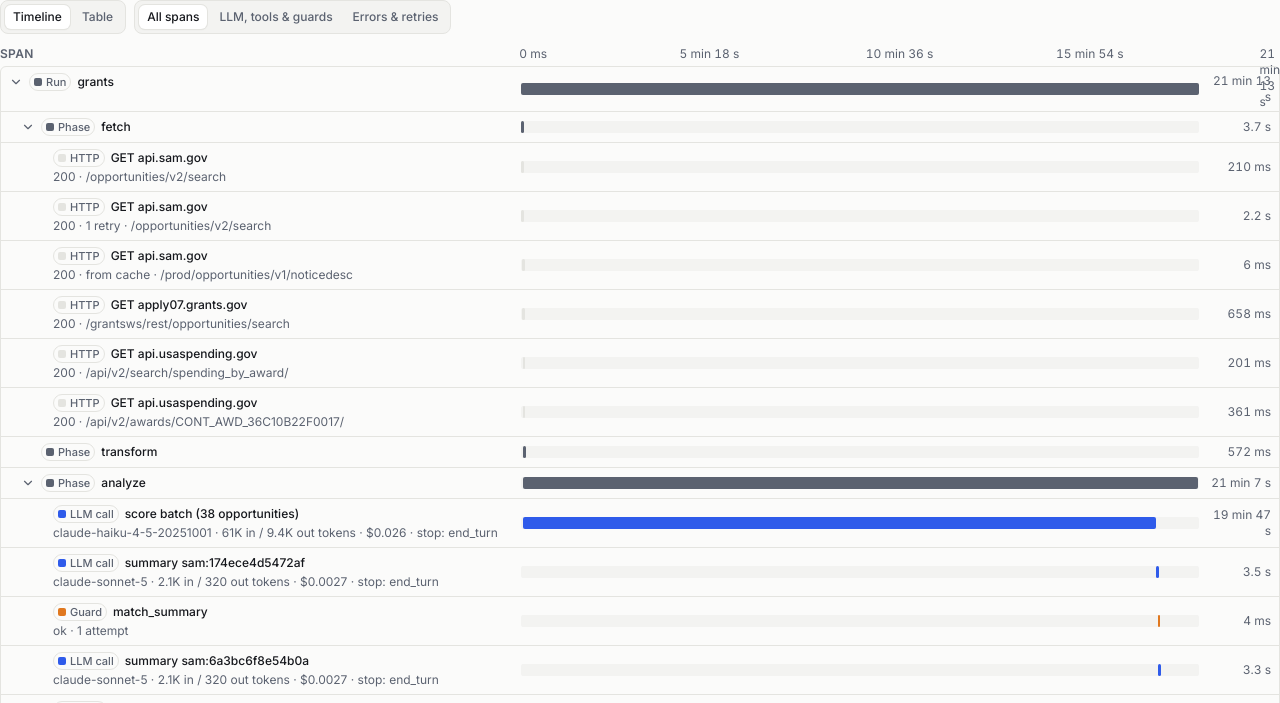
Test: TraceView › switches between the timeline and the text table, and filters
Click the radio button labelled "Table" at (98, 17), box [74,5,121,29]
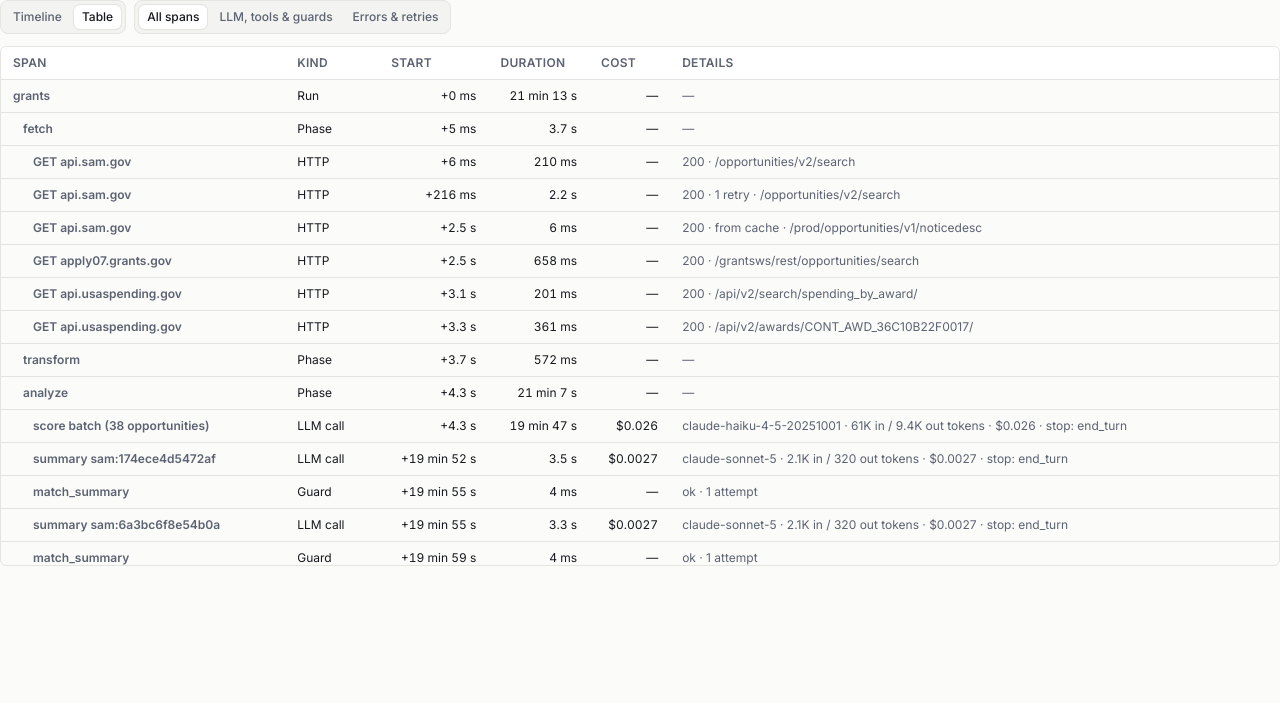
Click the radio button labelled "Errors & retries" at (396, 17), box [345,5,446,29]
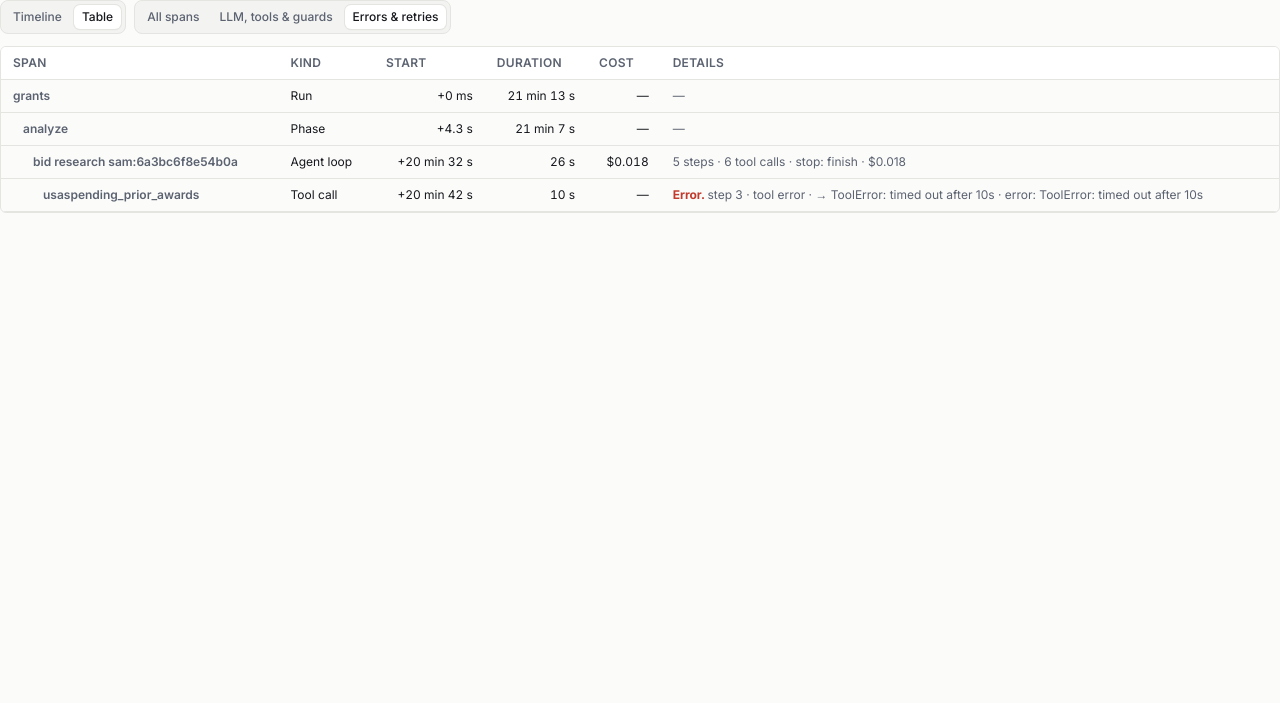
expect the text "Error." is shown: met, box [673,187,708,202]
